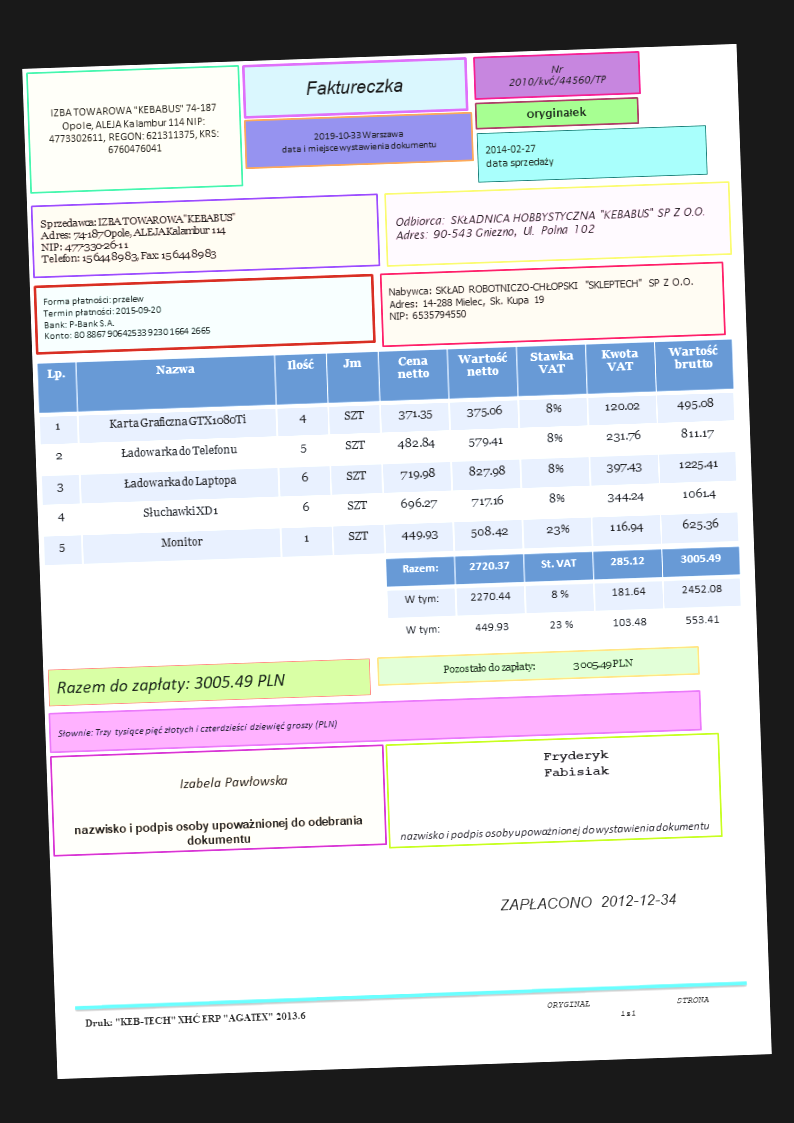Table: (35, 338, 740, 568), (383, 544, 745, 650)
TextBox: (386, 274, 696, 323), (391, 204, 708, 242), (37, 208, 239, 267), (72, 813, 364, 852), (45, 99, 222, 158), (40, 289, 211, 341), (397, 817, 712, 844), (54, 669, 288, 696), (56, 718, 340, 740), (81, 1008, 309, 1031), (278, 126, 439, 157), (546, 993, 711, 1021), (497, 890, 680, 915), (440, 655, 635, 677), (506, 60, 609, 92), (540, 747, 613, 779), (483, 141, 555, 173), (305, 75, 404, 98), (178, 773, 290, 791), (523, 104, 589, 122)
